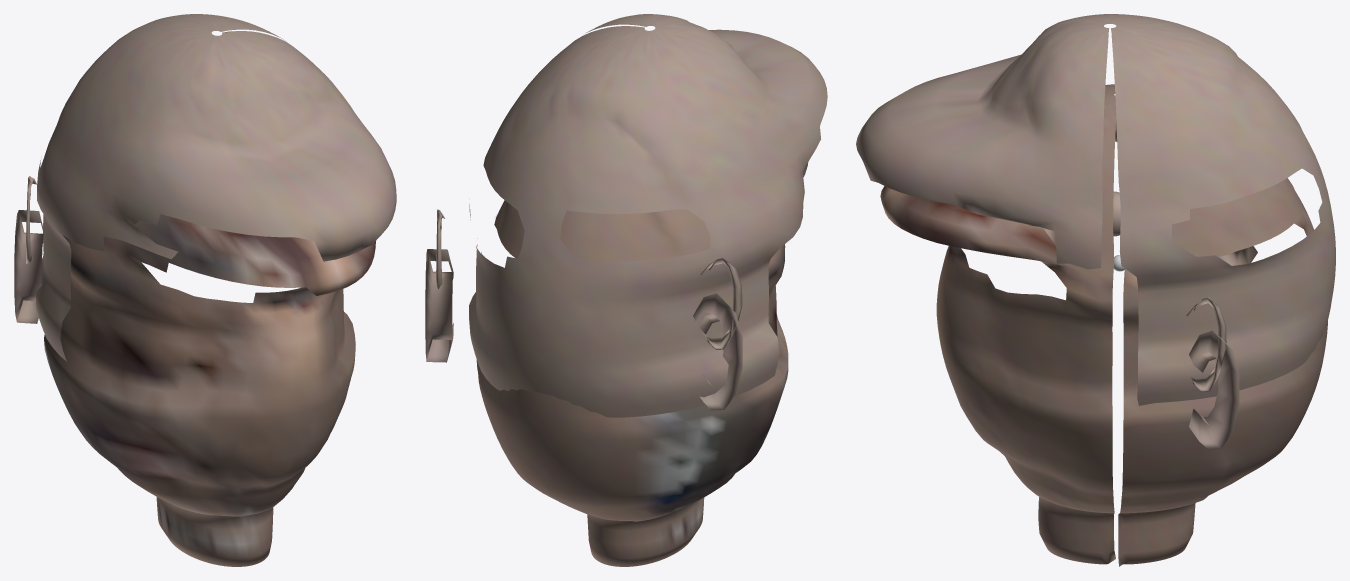
File: avatar_v2_f62a1799.glb
3 renders of one model, left to right at view 1: azimuth 30°, elevation 25°; view 2: azimuth 150°, elevation 25°; view 3: azimuth 270°, elevation 25°, orthographic.
Visible parts, largest first — view 1: world; view 2: world; view 3: world.
Boxes of the visible parts, x1=… form: world: x1=14, y1=14, x2=396, y2=566; world: x1=425, y1=14, x2=827, y2=566; world: x1=856, y1=14, x2=1335, y2=566.
Bounding box in the file's own units: 0.1037 × 0.1556 × 0.1303.
